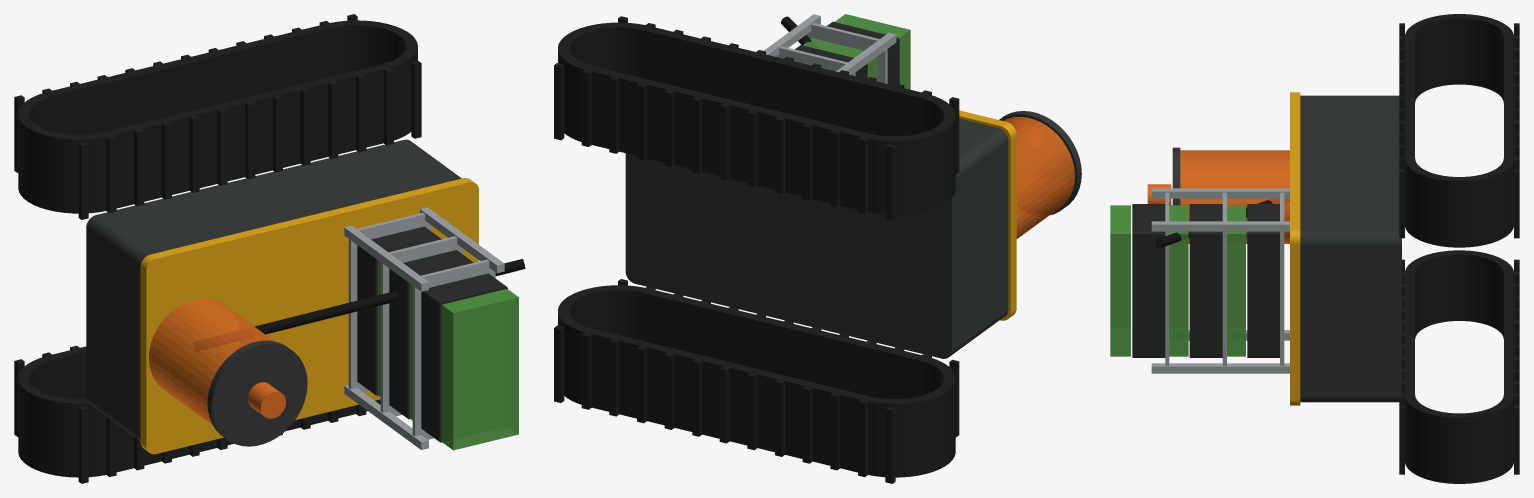
File: rear_link.obj
The picture shows the model from 3 angles, left to right: view 1: azimuth 30°, elevation 25°; view 2: azimuth 150°, elevation 25°; view 3: azimuth 270°, elevation 25°; orthographic projection. The views are drawn at different scales.
Parts seen in each view (by area): view 1: track_left_2, top_plate_1, chassis_0, track_right_3, spare_canopy_2_17, magazine_4, hopper_5, hopper_lid_6, spare_tray_2_16, spare_tray_1_13, spare_tray_0_10, seed_hose_7 (+2 smaller); view 2: chassis_0, track_left_2, track_right_3, hopper_5, magazine_4, top_plate_1, hopper_lid_6, spare_canopy_2_17, spare_tray_2_16, spare_canopy_1_14; view 3: chassis_0, track_left_2, track_right_3, magazine_4, hopper_5, spare_tray_2_16, spare_tray_1_13, spare_tray_0_10, top_plate_1, spare_canopy_2_17, spare_canopy_1_14, spare_canopy_0_11 (+1 smaller).
Part boxes in pixels (x1,y1,x2,y2): track_left_2: [14, 14, 421, 219]; top_plate_1: [140, 178, 478, 454]; chassis_0: [86, 139, 461, 440]; track_right_3: [14, 345, 380, 483]; spare_canopy_2_17: [441, 289, 518, 450]; magazine_4: [344, 207, 504, 449]; hopper_5: [148, 298, 274, 425]; hopper_lid_6: [207, 340, 307, 446]; spare_tray_2_16: [421, 273, 507, 442]; spare_tray_1_13: [389, 250, 473, 419]; spare_tray_0_10: [357, 226, 441, 395]; seed_hose_7: [195, 259, 525, 350]; chassis_0: [625, 118, 1008, 358]; track_left_2: [554, 16, 959, 221]; track_right_3: [554, 279, 959, 483]; hopper_5: [1003, 116, 1074, 238]; magazine_4: [764, 14, 896, 83]; top_plate_1: [959, 110, 1016, 320]; hopper_lid_6: [999, 111, 1081, 215]; spare_canopy_2_17: [835, 14, 910, 89]; spare_tray_2_16: [827, 21, 899, 85]; spare_canopy_1_14: [803, 38, 877, 81]; chassis_0: [1300, 95, 1401, 402]; track_left_2: [1399, 14, 1519, 247]; track_right_3: [1399, 250, 1519, 483]; magazine_4: [1151, 188, 1289, 373]; hopper_5: [1180, 150, 1289, 243]; spare_tray_2_16: [1132, 204, 1165, 357]; spare_tray_1_13: [1189, 204, 1222, 357]; spare_tray_0_10: [1247, 204, 1279, 357]; top_plate_1: [1290, 92, 1300, 405]; spare_canopy_2_17: [1110, 205, 1130, 356]; spare_canopy_1_14: [1169, 205, 1188, 356]; spare_canopy_0_11: [1227, 205, 1245, 356].
Bounding box in the file's own units: 1.52 × 1.28 × 1.57.
